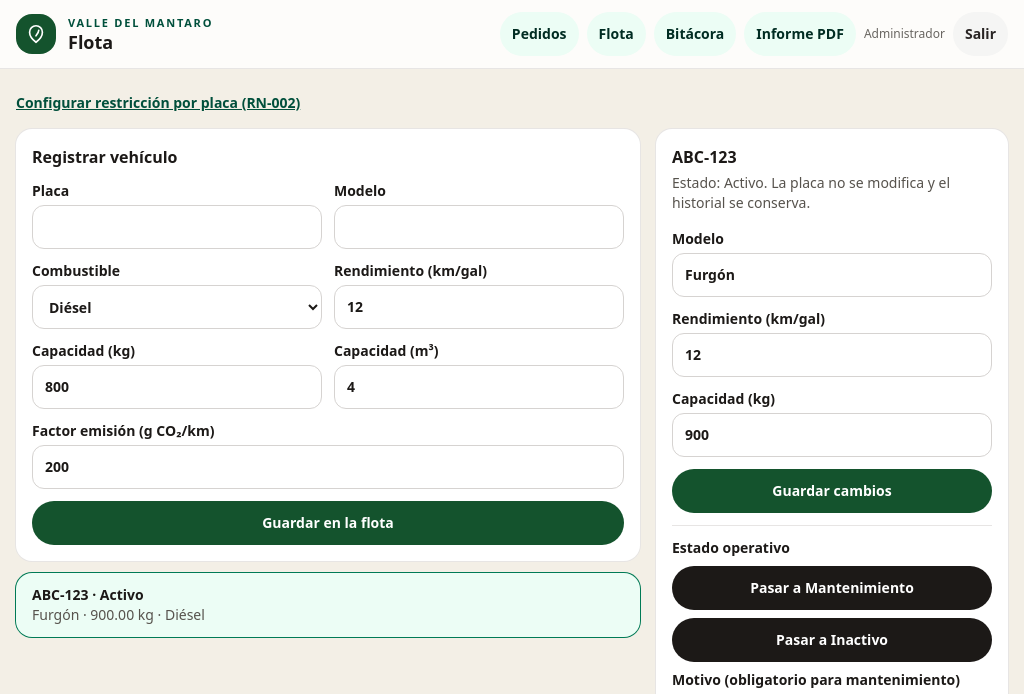
fleet management page › registers a normalized vehicle and reports backend failures
Type "new-456" into the field labelled "Placa" at x=177, y=227, box [32,205,322,249]
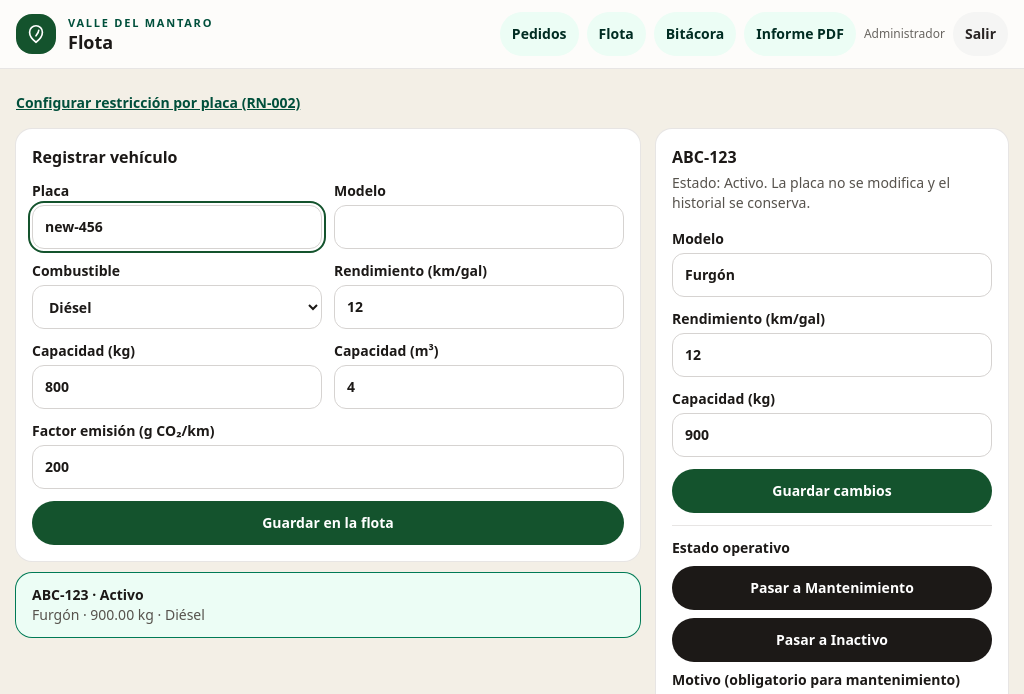
Type "Van" into the field labelled "Modelo" below "Registrar vehículo" at x=479, y=227, box [334,205,624,249]
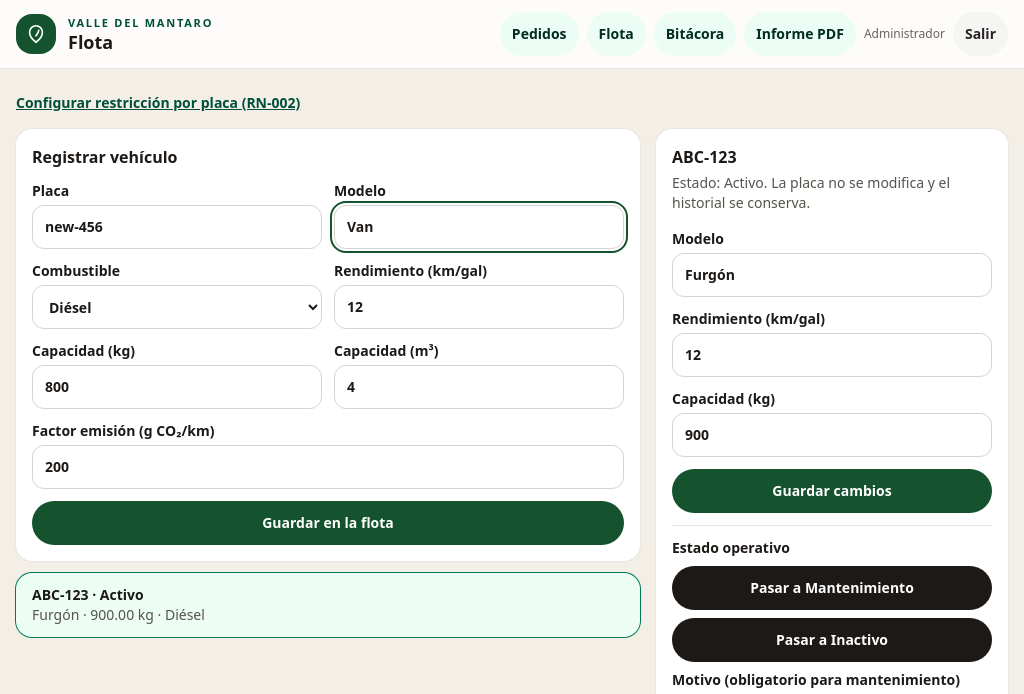
Click the button "Guardar en la flota" at x=328, y=523, box [32,501,624,545]
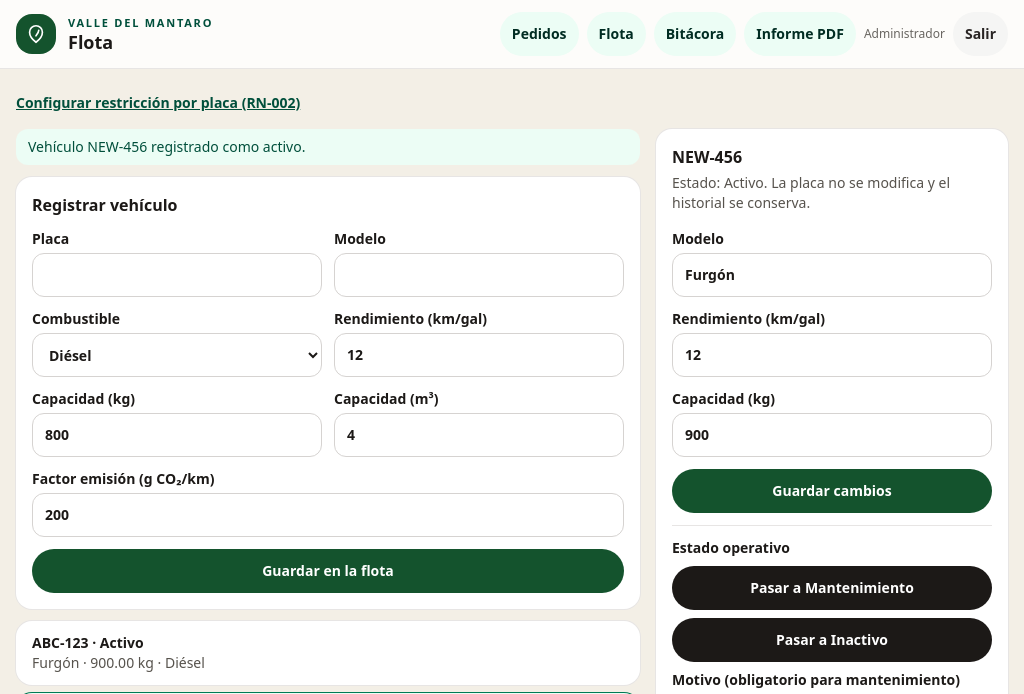
Check: the text "Vehículo NEW-456 registrado como activo." is shown, box [16,129,640,165]
Click the button "Guardar cambios" at x=832, y=491, box [672,469,992,513]
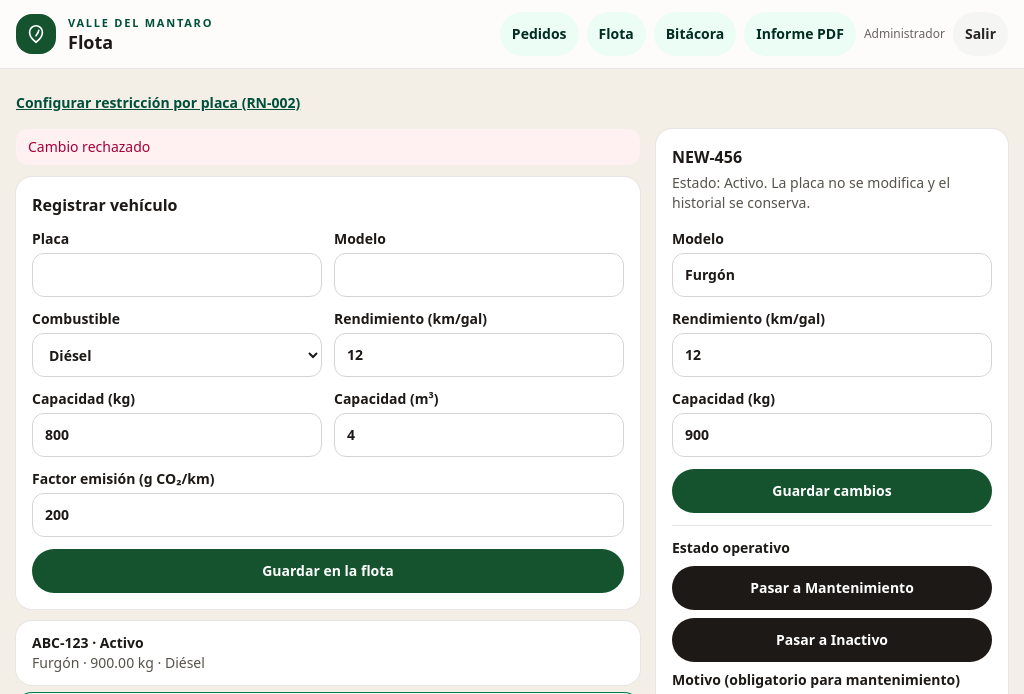
Check: the text "Cambio rechazado" is shown, box [16,129,640,165]
